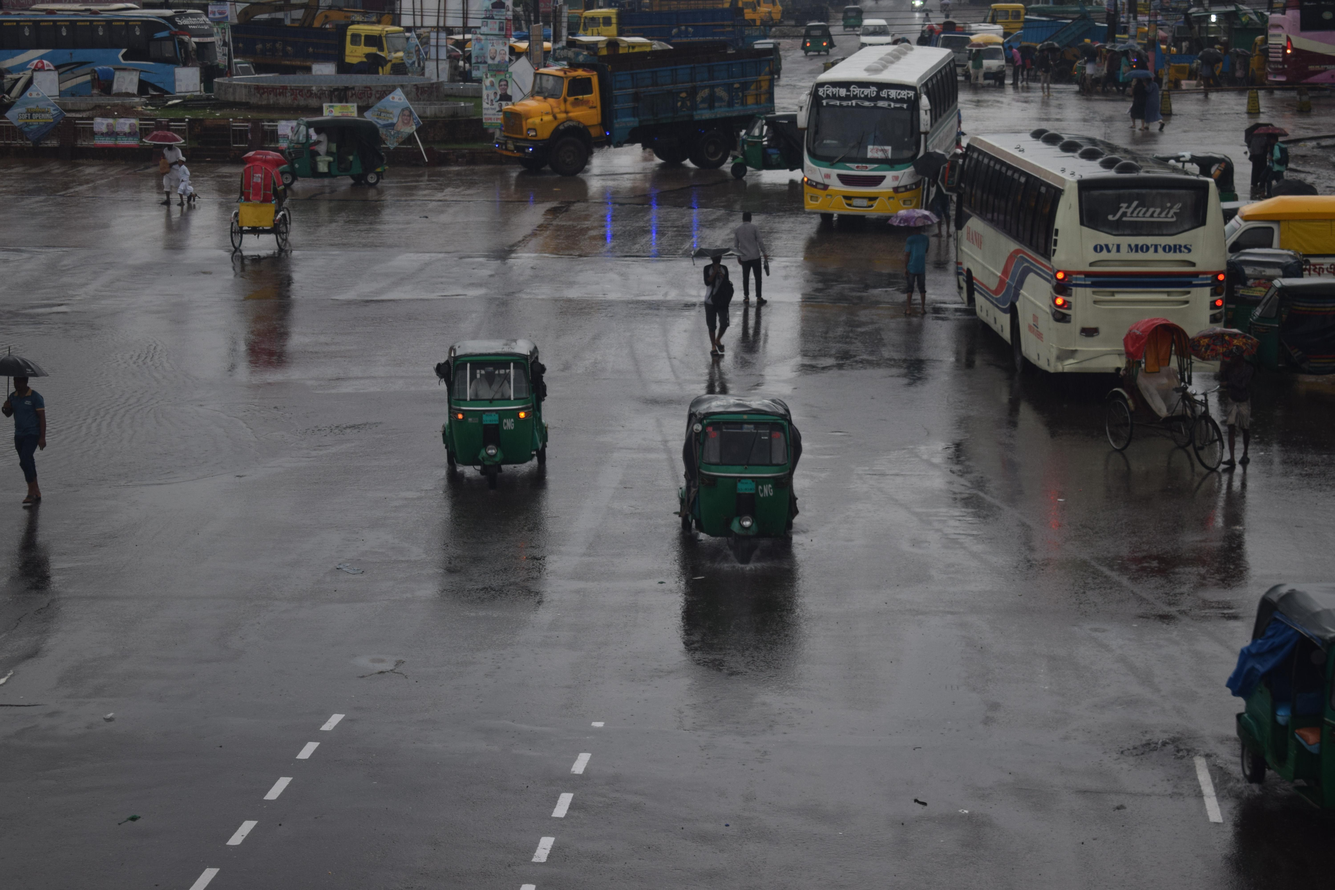Bus: (915, 79, 1250, 410), (791, 35, 986, 247), (0, 0, 252, 139)
Car: (1074, 302, 1253, 502), (195, 139, 334, 279), (1218, 190, 1335, 277)
Truck: (465, 47, 782, 178), (218, 0, 423, 96), (541, 0, 776, 72)
